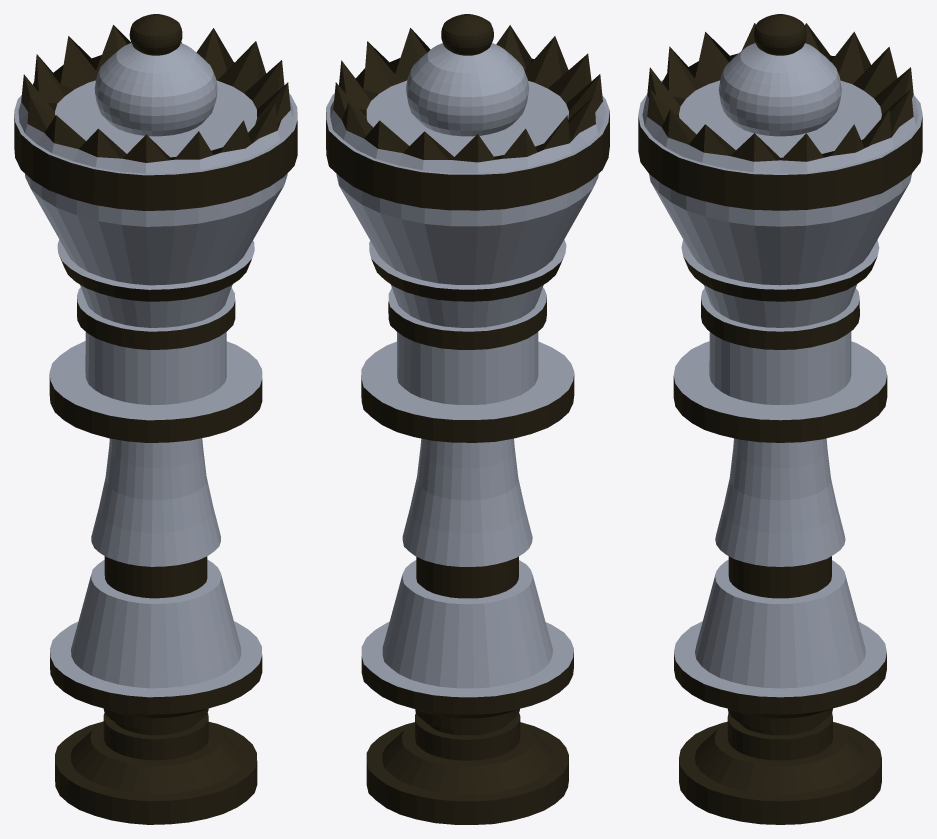
File: metal_q_w.glb
The picture shows the model from 3 angles, left to right: view 1: azimuth 30°, elevation 25°; view 2: azimuth 150°, elevation 25°; view 3: azimuth 270°, elevation 25°; orthographic projection.
Visible parts, largest first — view 1: q1, q0; view 2: q1, q0; view 3: q1, q0.
Part boxes in pixels (x1,y1,x2,y2): q1: (14, 43, 297, 697); q0: (14, 14, 297, 824); q1: (326, 43, 609, 697); q0: (326, 14, 609, 824); q1: (638, 43, 922, 697); q0: (638, 14, 922, 824).
Bounding box in the file's own units: 0.3029 × 0.9 × 0.3029.
